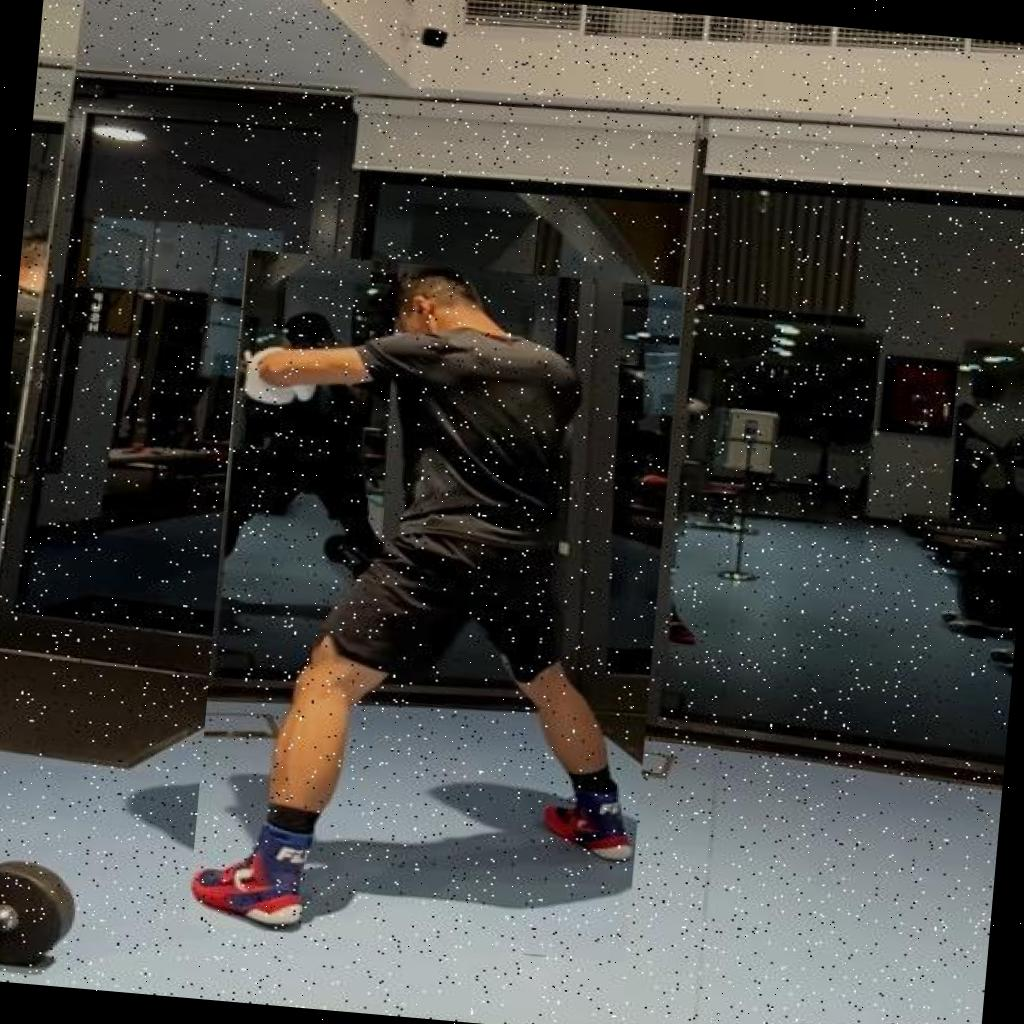hook: (186, 249, 684, 962)
